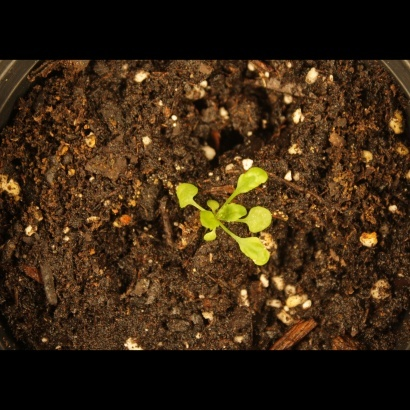leaf: (235, 232, 275, 279), (234, 165, 276, 194), (246, 203, 277, 234), (172, 182, 204, 212), (218, 203, 249, 226), (197, 231, 220, 254), (206, 190, 229, 213), (198, 211, 221, 234)
